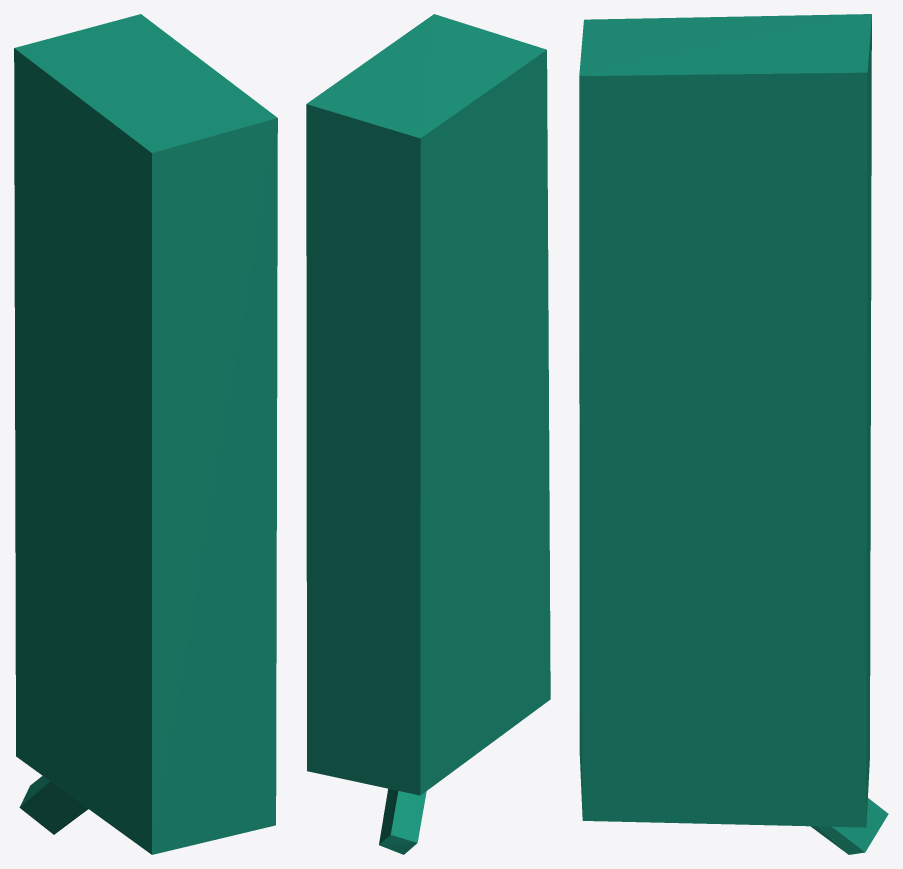
The picture shows the model from 3 angles, left to right: view 1: azimuth 30°, elevation 25°; view 2: azimuth 150°, elevation 25°; view 3: azimuth 270°, elevation 25°; orthographic projection. The views are drawn at different scales.
Parts seen in each view (by area): view 1: 765_Cube.3080; view 2: 765_Cube.3080; view 3: 765_Cube.3080.
Boxes of the visible parts, x1,y1,x2,y2 form: 765_Cube.3080: (14, 14, 277, 854); 765_Cube.3080: (306, 14, 550, 854); 765_Cube.3080: (579, 14, 888, 854).
Size of the model in its own units: 2.24 by 13.48 by 4.55.
